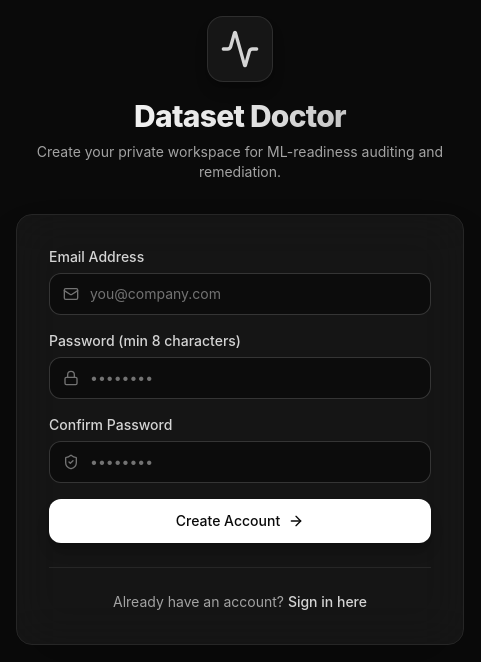
Test case: Frontend Authentication - Pages & Route Guards › submits valid registration on RegisterPage and displays success state
Type "success@example.com" into the field labelled "Email Address".
click(240, 294); type("success@example.com")  # box [49,272,431,314]
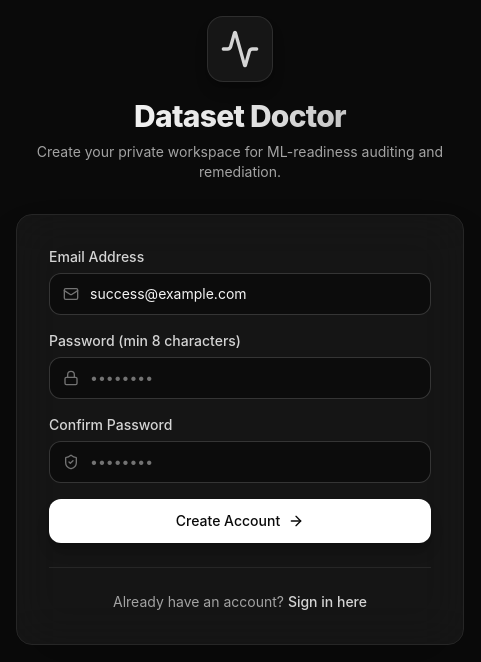
Type "StrongPass123!" into the password field labelled "Password (min 8 characters)".
click(240, 378); type("StrongPass123!")  # box [49,356,431,398]
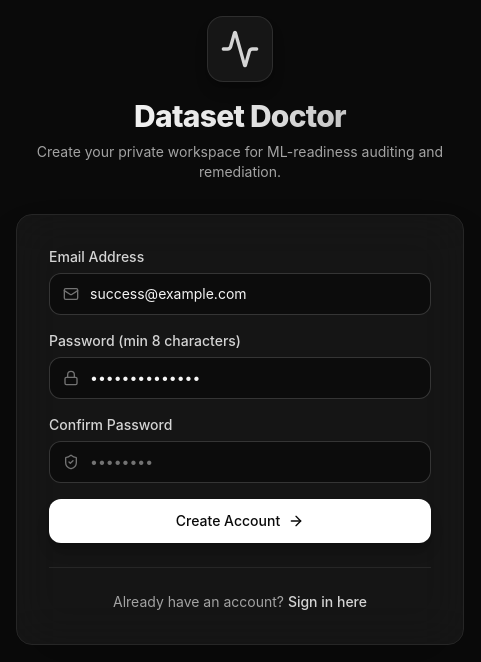
Type "StrongPass123!" into the password field labelled "Confirm Password".
click(240, 462); type("StrongPass123!")  # box [49,440,431,482]
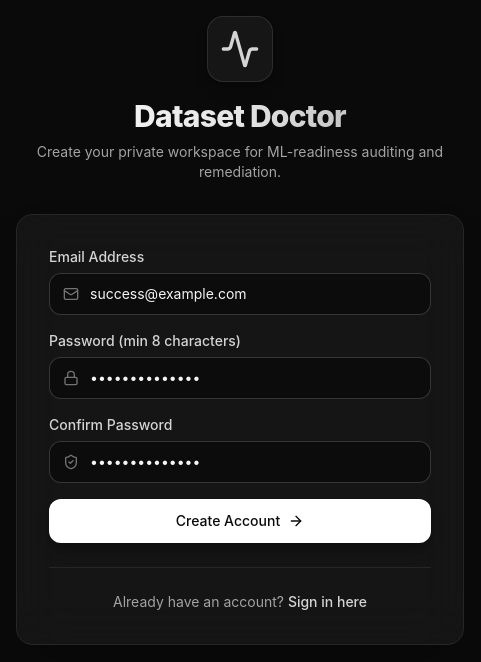
Click the button "Create Account".
click(240, 520)  # box [49,498,431,542]
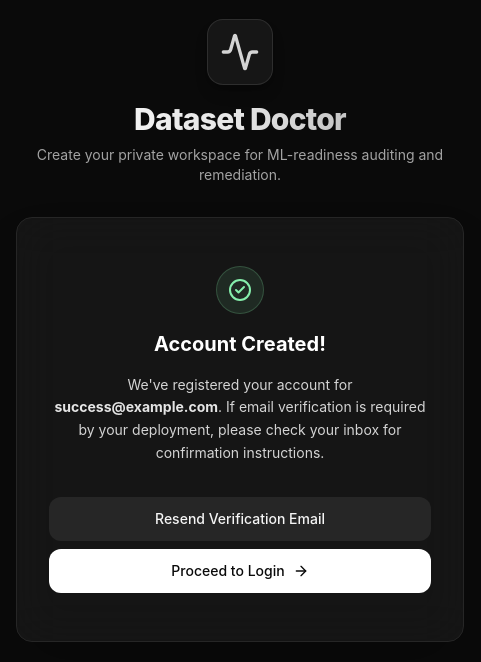
Check: the heading "Account Created!" is shown, box [154,332,326,356]
